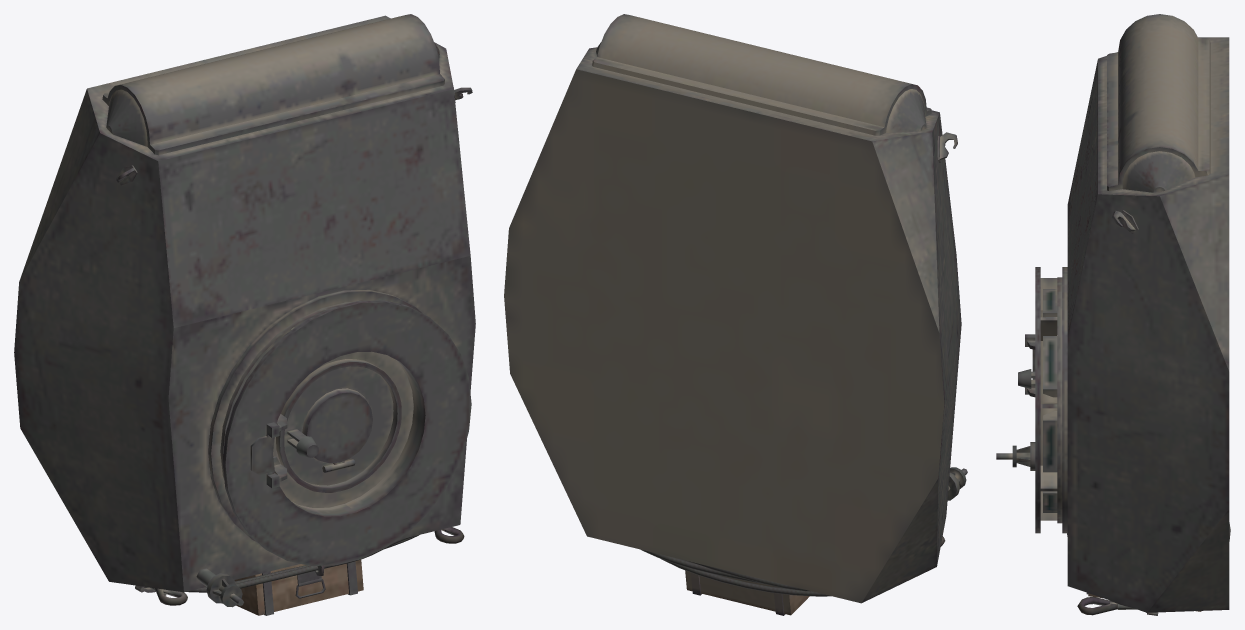
The model's file is Turret_02.glb.
3 views of the same model, side by side, from view 1: azimuth 30°, elevation 25°; view 2: azimuth 150°, elevation 25°; view 3: azimuth 270°, elevation 25° (orthographic). The views are drawn at different scales.
Visible parts, largest first — view 1: set_0_group_0; view 2: set_0_group_0; view 3: set_0_group_0.
Boxes of the visible parts, x1,y1,x2,y2 form: set_0_group_0: (14, 14, 475, 615); set_0_group_0: (504, 14, 967, 615); set_0_group_0: (996, 14, 1230, 615).
Bounding box in the file's own units: 1.24 × 1.45 × 0.6035.
1 material, 1 textured.
